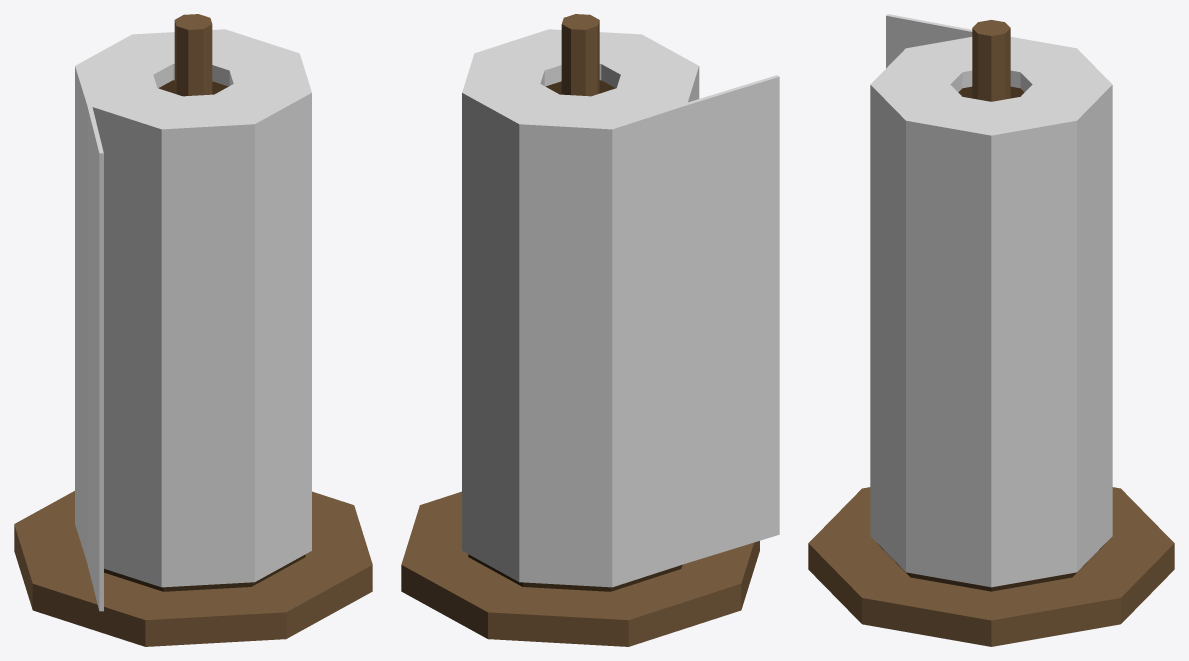
File: Paper_01.fbx
The picture shows the model from 3 angles, left to right: view 1: azimuth 30°, elevation 25°; view 2: azimuth 150°, elevation 25°; view 3: azimuth 270°, elevation 25°; orthographic projection.
Parts seen in each view (by area): view 1: Paper_01; view 2: Paper_01; view 3: Paper_01.
Boxes of the visible parts, x1,y1,x2,y2 form: Paper_01: (14,14,372,646); Paper_01: (401,14,779,646); Paper_01: (808,14,1174,646).
Bounding box in the file's own units: 16.92 × 27.62 × 16.92.
